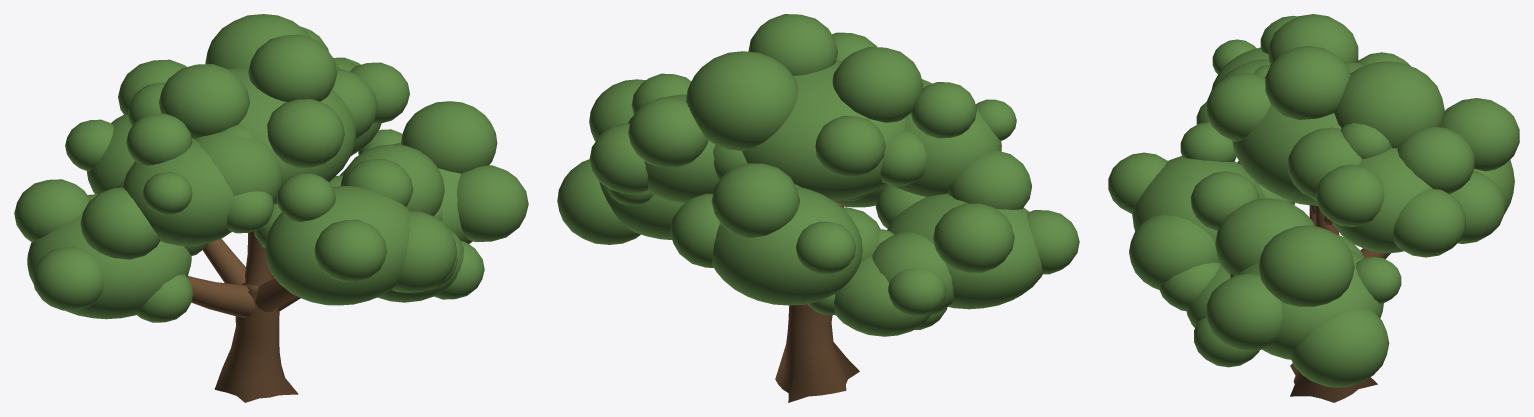
Rendered from oak.glb.
The picture shows the model from 3 angles, left to right: view 1: azimuth 30°, elevation 25°; view 2: azimuth 150°, elevation 25°; view 3: azimuth 270°, elevation 25°; orthographic projection.
Visible parts, largest first — view 1: Mesh_Oak_Crown, Mesh_Oak_Wood; view 2: Mesh_Oak_Crown, Mesh_Oak_Wood; view 3: Mesh_Oak_Crown, Mesh_Oak_Wood.
Boxes of the visible parts, x1=… form: Mesh_Oak_Crown: x1=14, y1=14, x2=528, y2=322; Mesh_Oak_Wood: x1=187, y1=231, x2=300, y2=402; Mesh_Oak_Crown: x1=557, y1=14, x2=1079, y2=336; Mesh_Oak_Wood: x1=775, y1=202, x2=859, y2=402; Mesh_Oak_Crown: x1=1108, y1=14, x2=1519, y2=387; Mesh_Oak_Wood: x1=1290, y1=205, x2=1390, y2=402.
Size of the model in its own units: 16.24 by 11.32 by 12.09.
